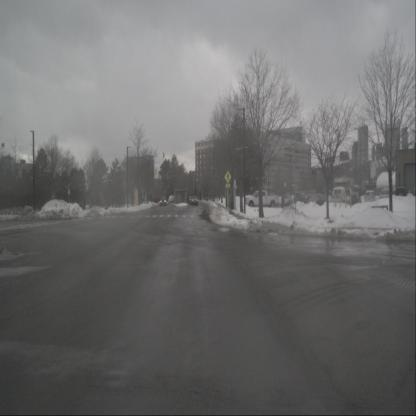vehicle-car: (308, 192, 328, 208), (332, 186, 347, 207), (378, 188, 392, 206), (293, 191, 309, 205), (395, 186, 407, 204), (364, 189, 376, 205), (349, 191, 360, 208), (280, 193, 292, 208), (159, 195, 167, 207), (190, 196, 198, 206), (168, 195, 175, 204), (188, 196, 194, 205)
vehicle-truck: (244, 189, 280, 211)
